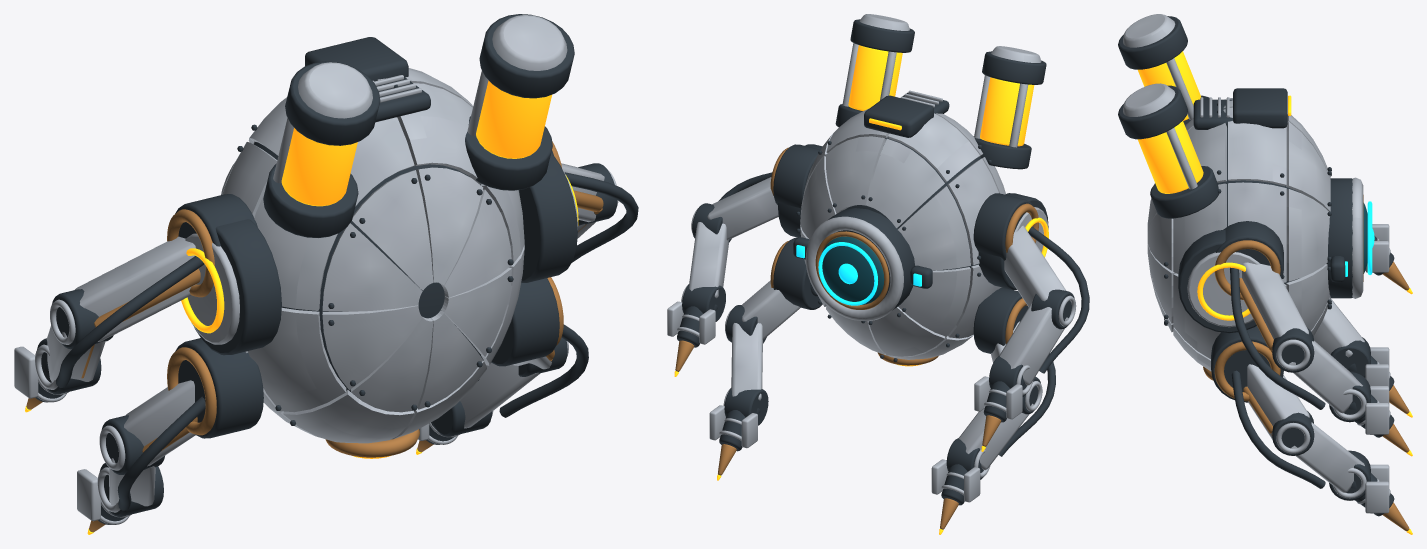
Rendered from rep-2.glb.
3 views of the same model, side by side, from view 1: azimuth 30°, elevation 25°; view 2: azimuth 150°, elevation 25°; view 3: azimuth 270°, elevation 25° (orthographic). The views are drawn at different scales.
Visible parts, largest first — view 1: REP-2 picture-guided shell and tools; view 2: REP-2 picture-guided shell and tools; view 3: REP-2 picture-guided shell and tools.
Part boxes in pixels (box(x1,y1,x2,y2)): REP-2 picture-guided shell and tools: box(14, 14, 638, 534); REP-2 picture-guided shell and tools: box(667, 14, 1089, 534); REP-2 picture-guided shell and tools: box(1118, 14, 1412, 534).
Bounding box in the file's own units: 2.62 × 2.55 × 1.61.
Materials: 6 (1 with a texture image).
